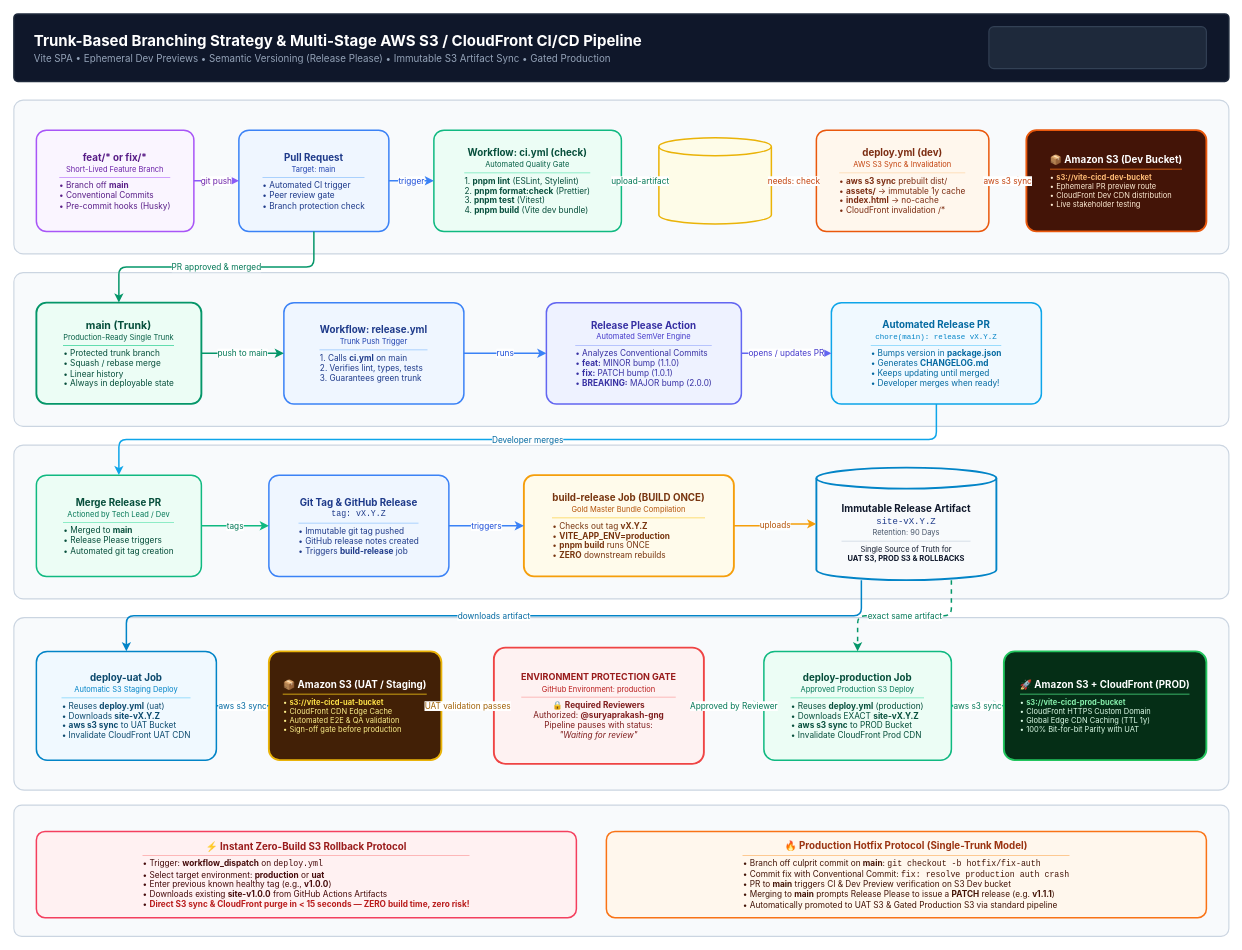
This 1242x950 diagram has some shape labels left out. Here are the shapes that lost their labels. From the top down, the box of each, then its label:
(988, 26, 1207, 69): TARGET: Amazon S3 + CloudFront TRUNK: main | REPO: vite-cicd-playground
(13, 99, 1229, 254): PHASE 1: Feature Development, Pull Request & Ephemeral S3 Dev Preview
(658, 136, 772, 224): Dev Artifact site-pr-<PR#> Retention: 7 Days
(13, 272, 1229, 427): PHASE 2: Trunk Merge & Automated Semantic Versioning (Release Please)
(13, 444, 1229, 599): PHASE 3: Release PR Merge, Single Immutable Build & Artifact Preservation
(13, 617, 1229, 790): PHASE 4: Sequential Multi-Stage S3 Deployment & Gated Production Promotion
(13, 804, 1229, 937): PHASE 5: Operational Resilience — Instant Zero-Build Rollback & Hotfix Protocols
